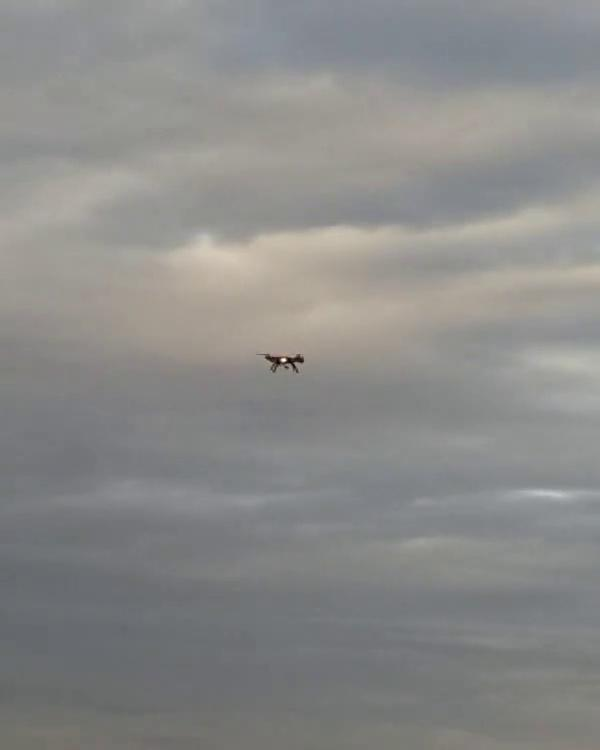drone: (257, 347, 309, 377)
